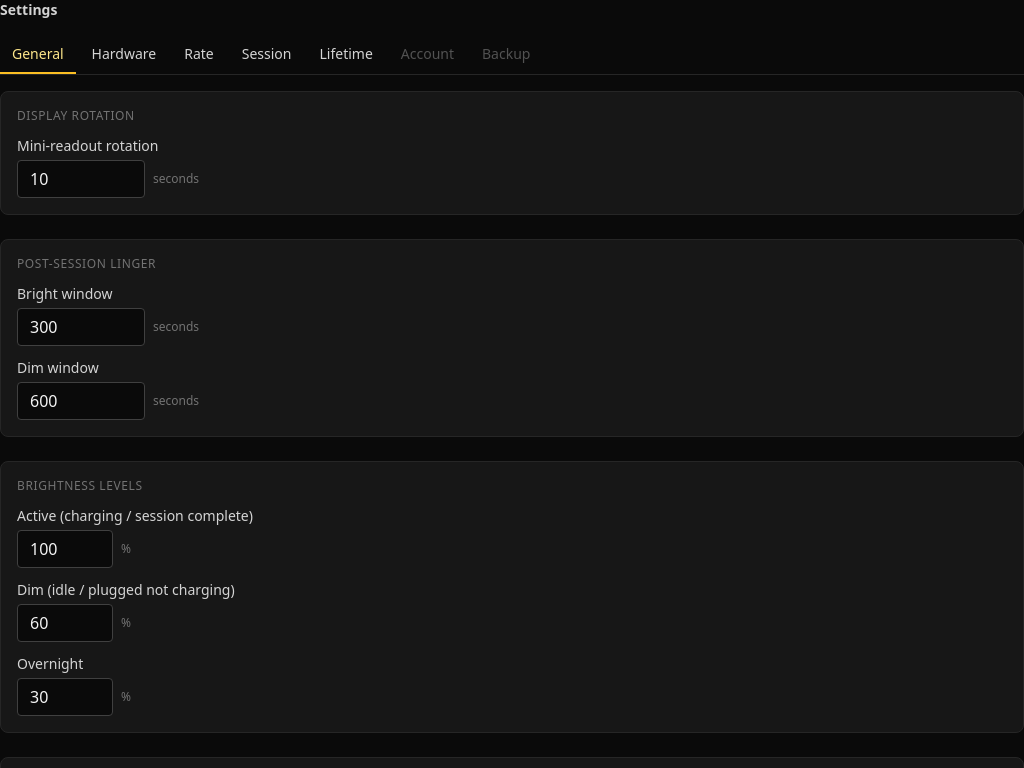
Test: AdminSettings › Lifetime modal Cancel keeps the draft but does not PATCH
This screenshot has width=1024, height=768.
Click the button "Lifetime". click: (346, 55)
box: left=308, top=36, right=385, bottom=74
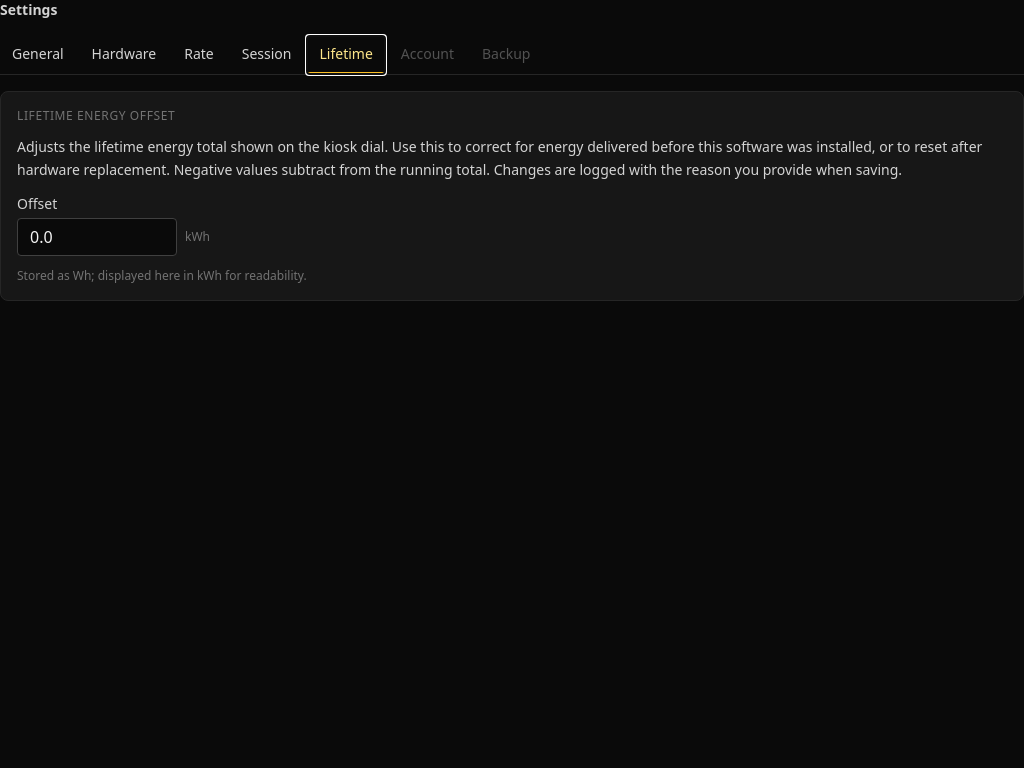
Replace the text in the field named "lifetime offset in kwh" with "0.5". click: (97, 236)
box: left=17, top=218, right=177, bottom=256
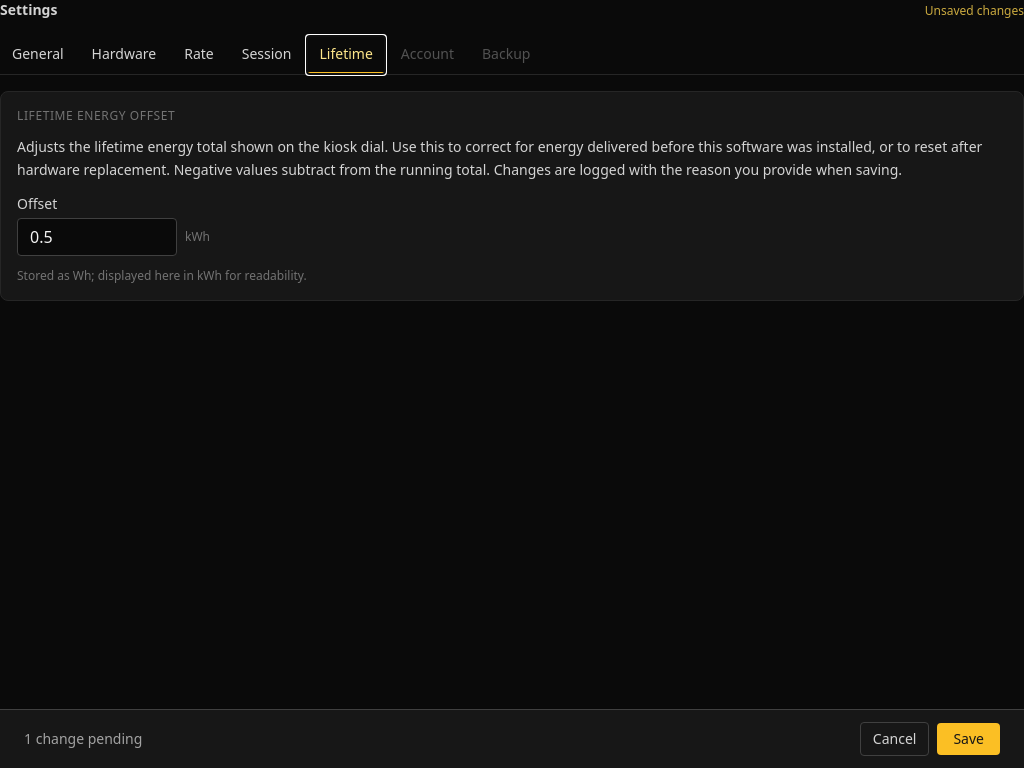
Click the button "Save". click: (969, 739)
box: left=937, top=723, right=1000, bottom=755
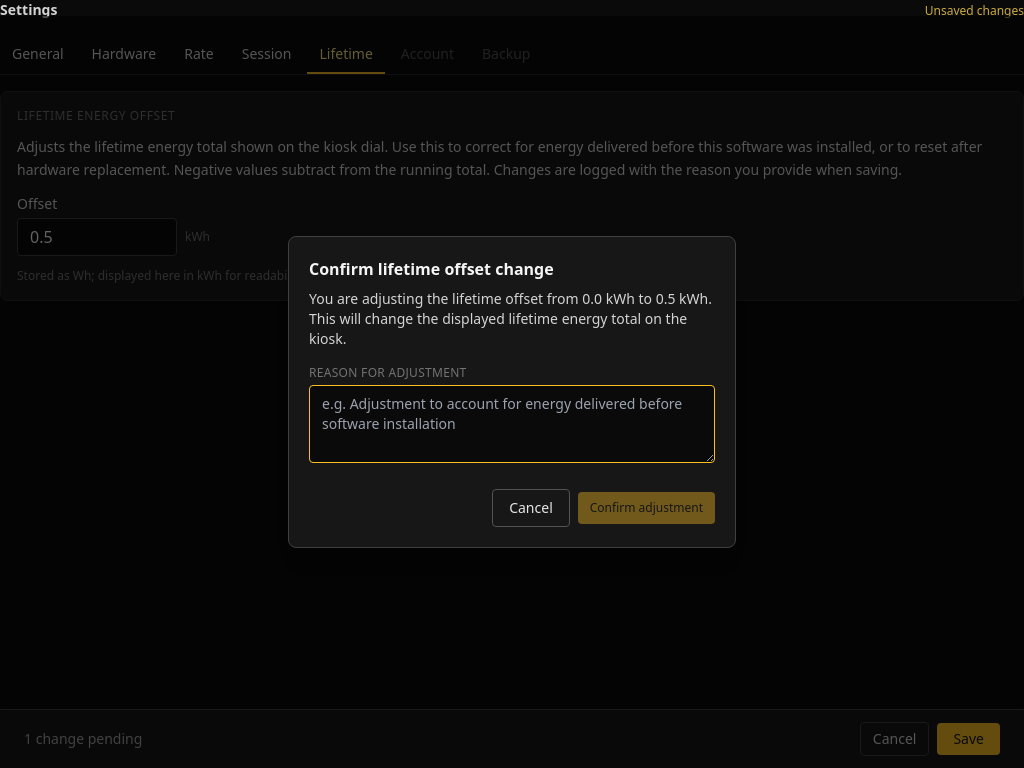
Click the button "Cancel". click: (531, 508)
box: left=492, top=489, right=570, bottom=527
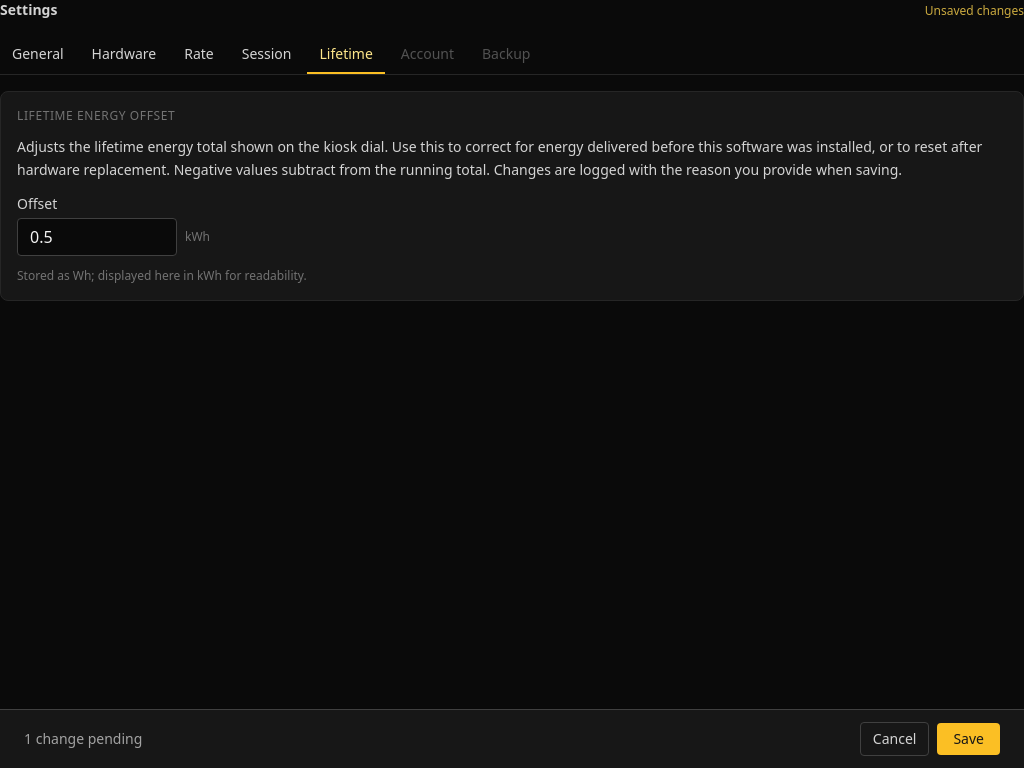
Expected: the dialog is gone
